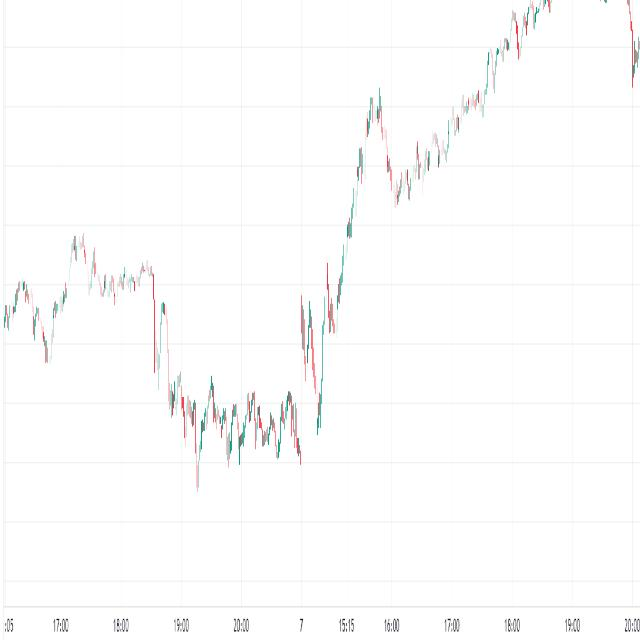Rounding-Bottom: (165, 311, 306, 496)
